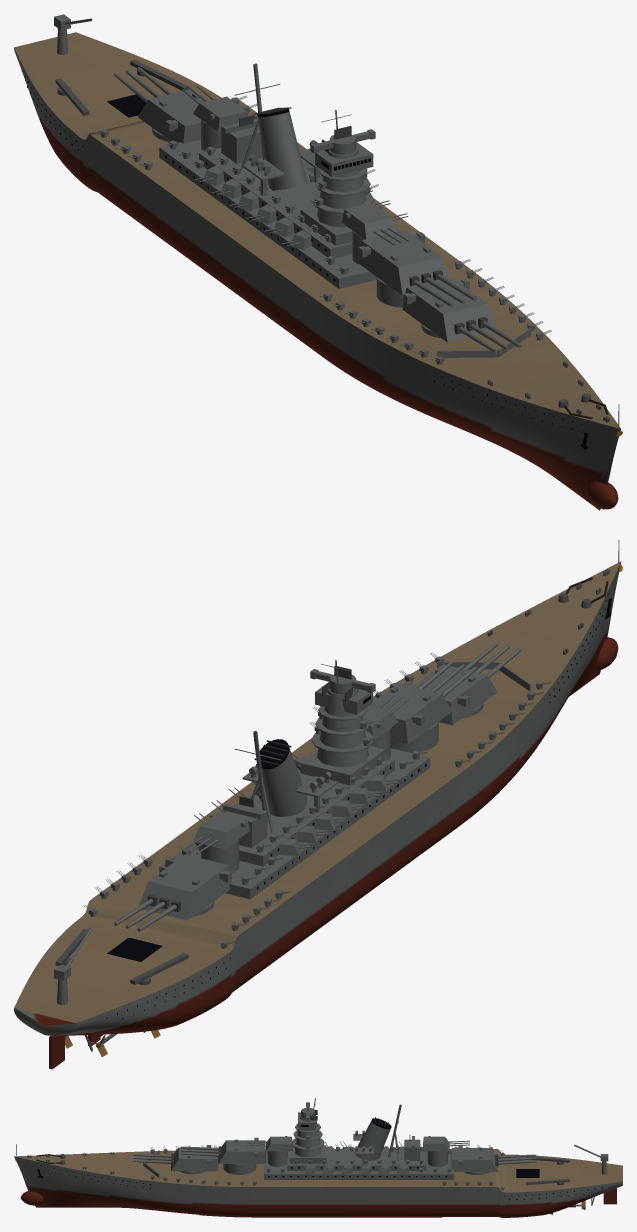
The model's file is model_built.glb.
3 renders of one model, top to bottom at view 1: azimuth 30°, elevation 25°; view 2: azimuth 150°, elevation 25°; view 3: azimuth 270°, elevation 25°, orthographic. The views are drawn at different scales.
Parts seen in each view (by area): view 1: main; view 2: main; view 3: main.
Part boxes in pixels (<box>): main: <box>14,14,622,510</box>; main: <box>14,540,622,1069</box>; main: <box>14,1098,622,1217</box>.
Bounding box in the file's own units: 40.12 × 52.23 × 263.
